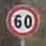limite 60: (4, 4, 40, 38)
